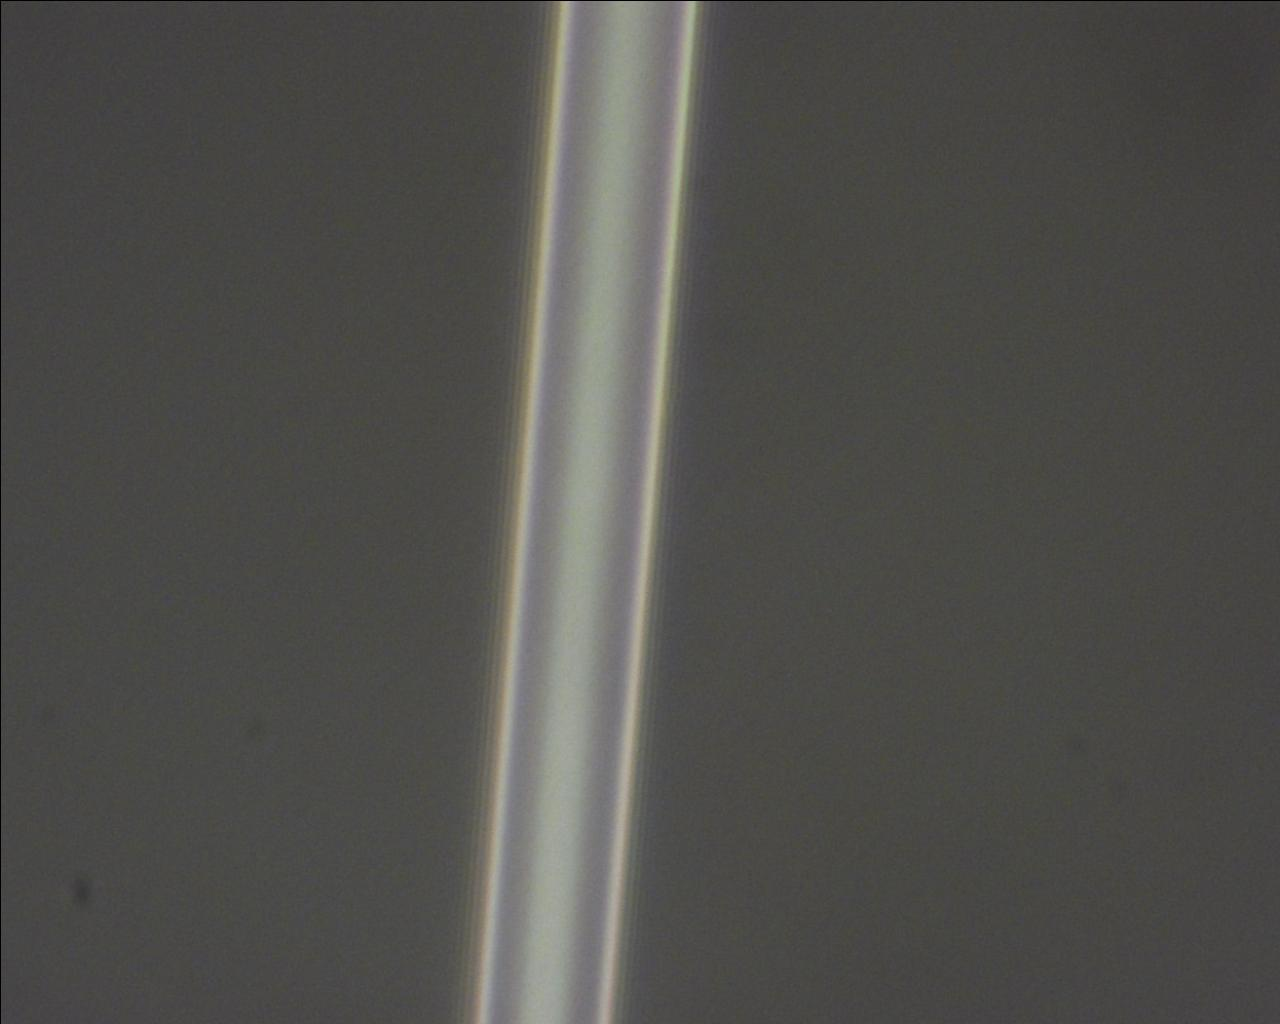fiber: (127, 813, 1151, 1024)
